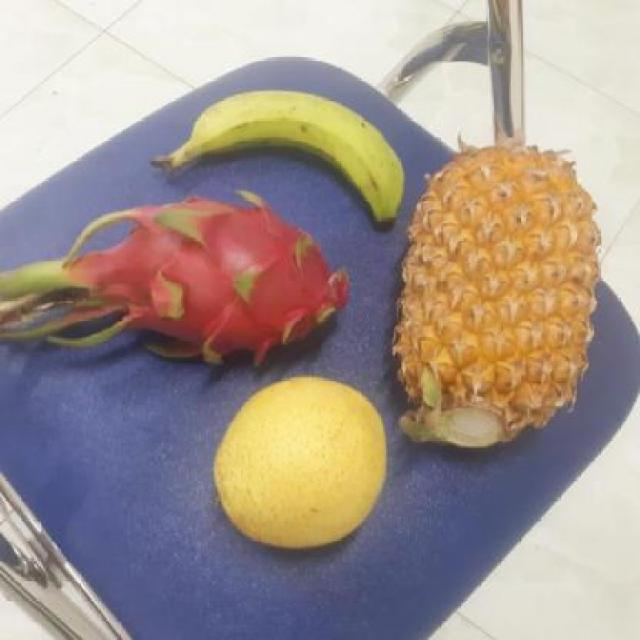banana: (180, 90, 415, 218)
dragon fruit: (88, 190, 366, 368)
pear: (210, 376, 398, 549)
pineapple: (396, 148, 602, 455)
